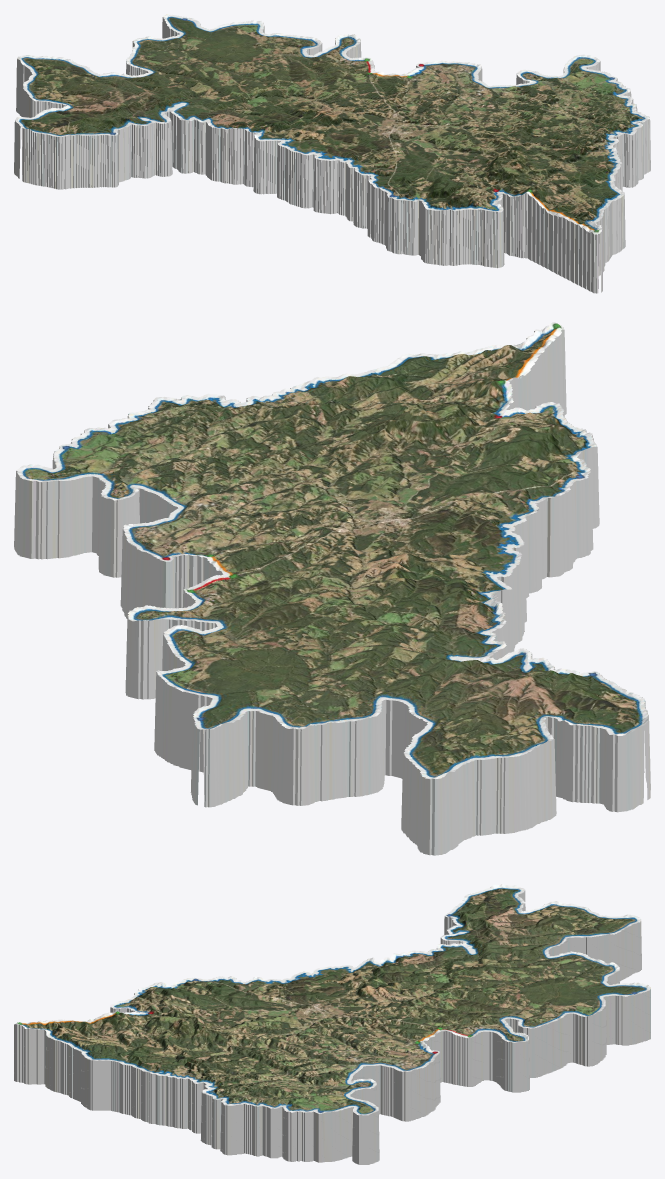
3 renders of one model, top to bottom at view 1: azimuth 30°, elevation 25°; view 2: azimuth 150°, elevation 25°; view 3: azimuth 270°, elevation 25°, orthographic. The views are drawn at different scales.
Bounding box in the file's own units: 1 × 0.1242 × 1.17.
1 material, 1 textured.
